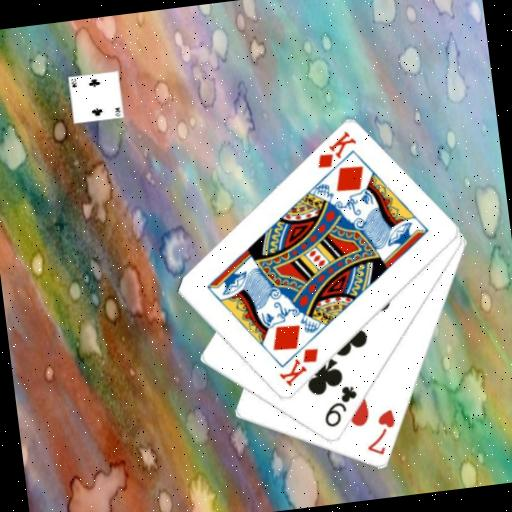7H: (360, 405, 401, 459)
9C: (317, 382, 363, 431)
KD: (273, 344, 325, 389), (311, 127, 361, 171)
